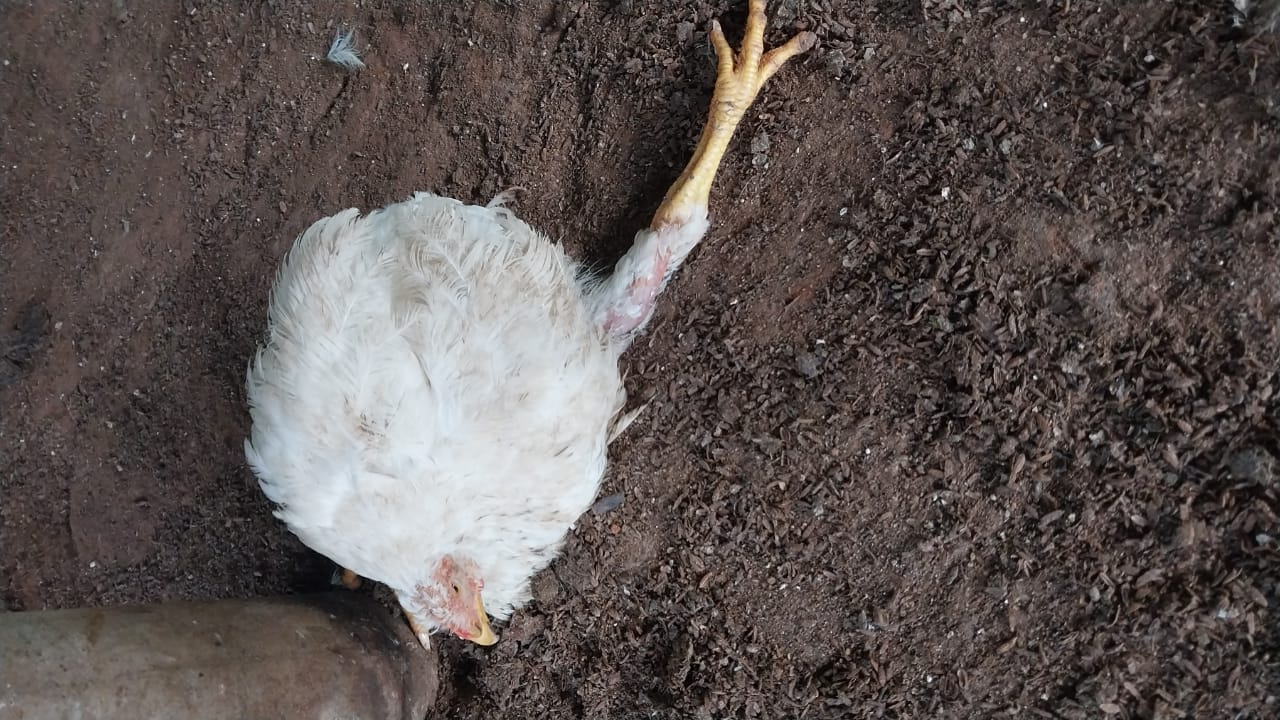Unhealthy: (166, 15, 798, 659)
